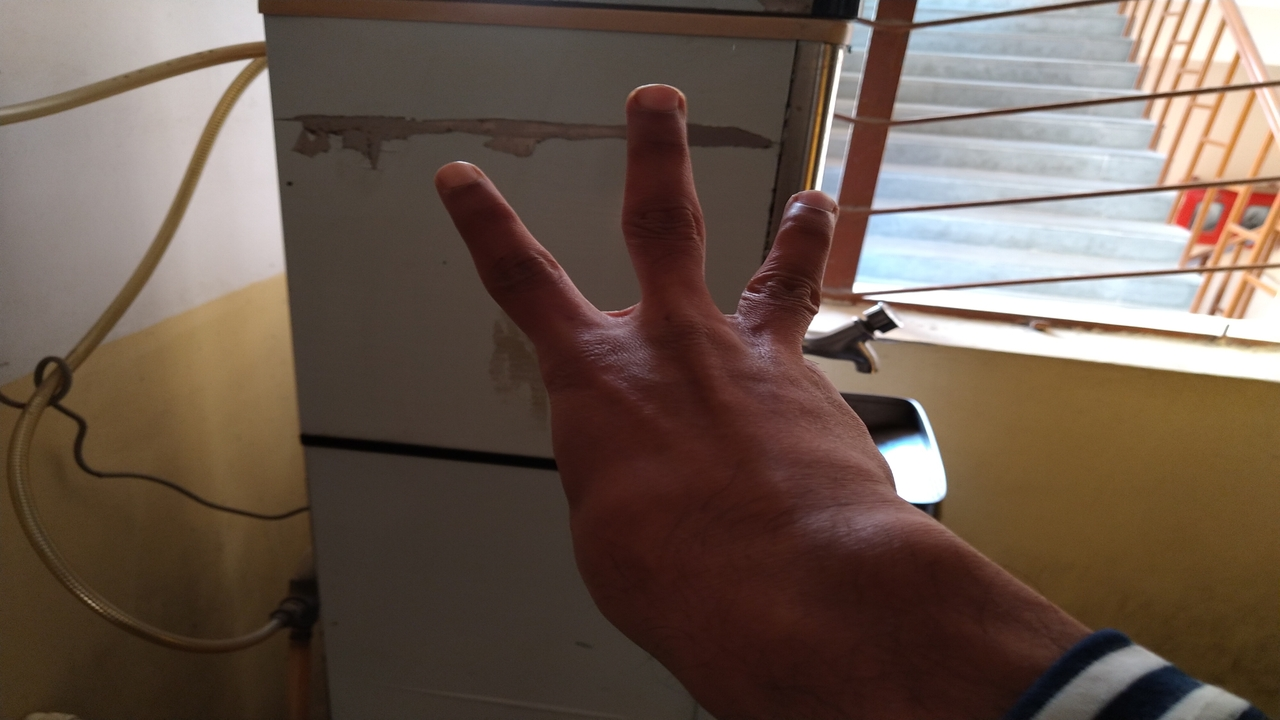fingertip: (432, 154, 498, 210), (622, 78, 690, 132), (780, 178, 838, 234)
